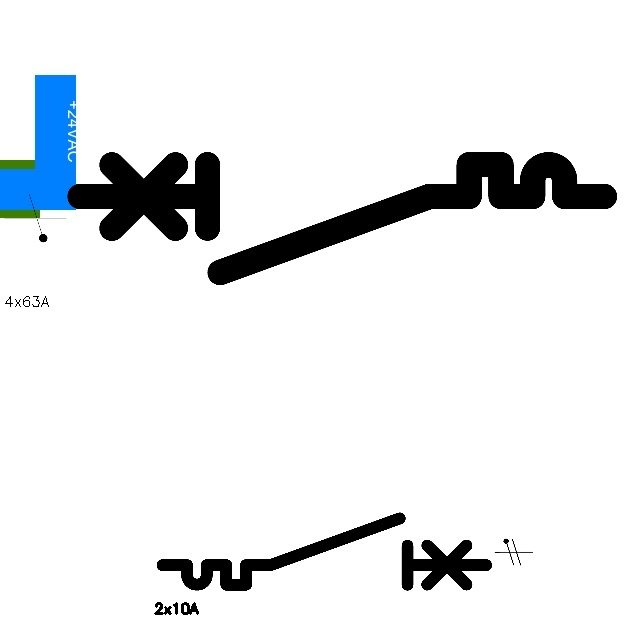interruptor_termomagnetico: (66, 151, 618, 286), (154, 510, 495, 593)
